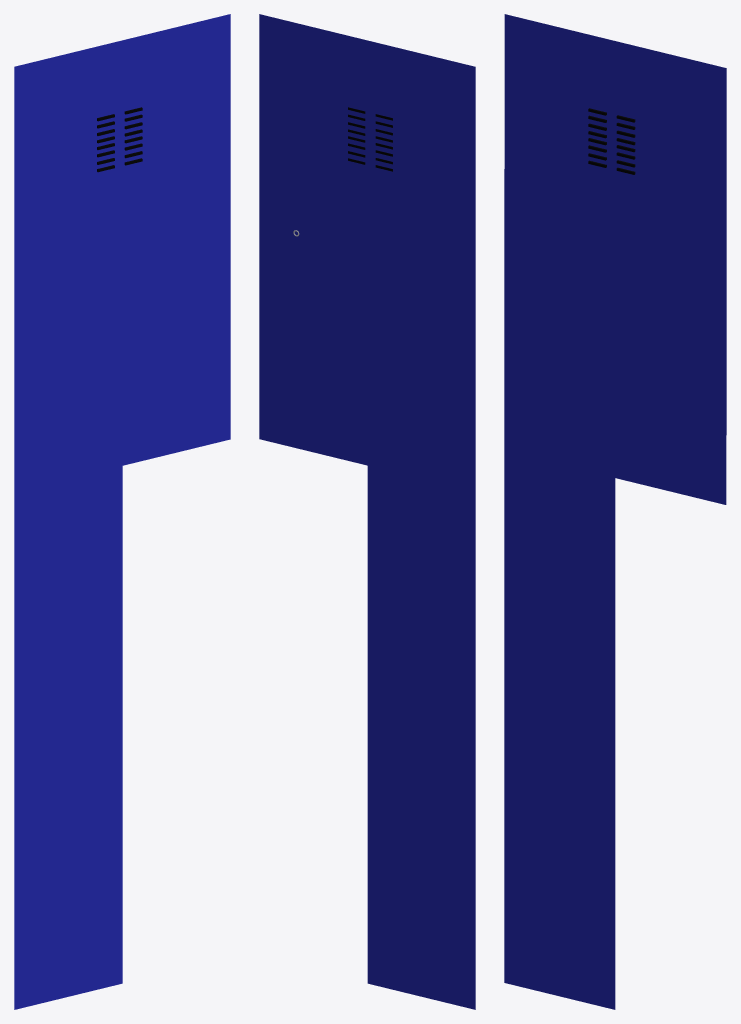
File: lockerDoorB.glb
3 views of the same model, side by side, from view 1: azimuth 30°, elevation 25°; view 2: azimuth 150°, elevation 25°; view 3: azimuth 330°, elevation 25° (orthographic). The views are drawn at different scales.
Parts seen in each view (by area): view 1: Cube; view 2: Cube; view 3: Cube.
Part boxes in pixels (left/top/right/bottom): Cube: left=14, top=14, right=230, bottom=1009; Cube: left=259, top=14, right=475, bottom=1009; Cube: left=504, top=14, right=726, bottom=1009.
Bounding box in the file's own units: 1.78 × 7.42 × 0.0194.
